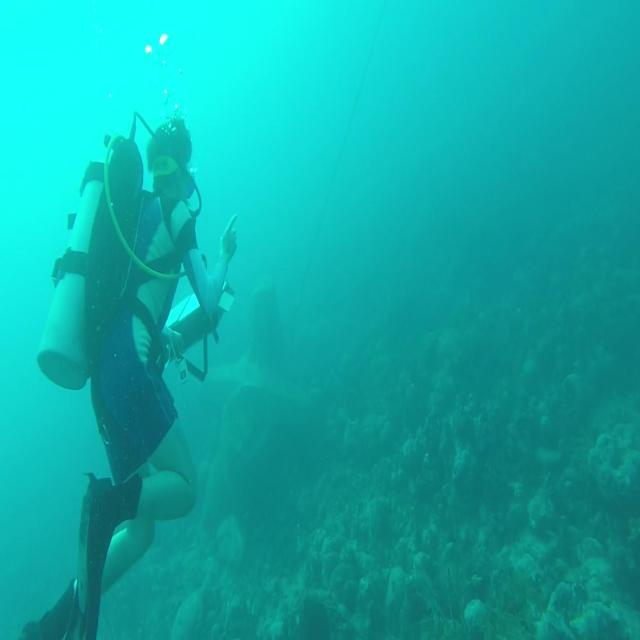human: (22, 112, 237, 638)
